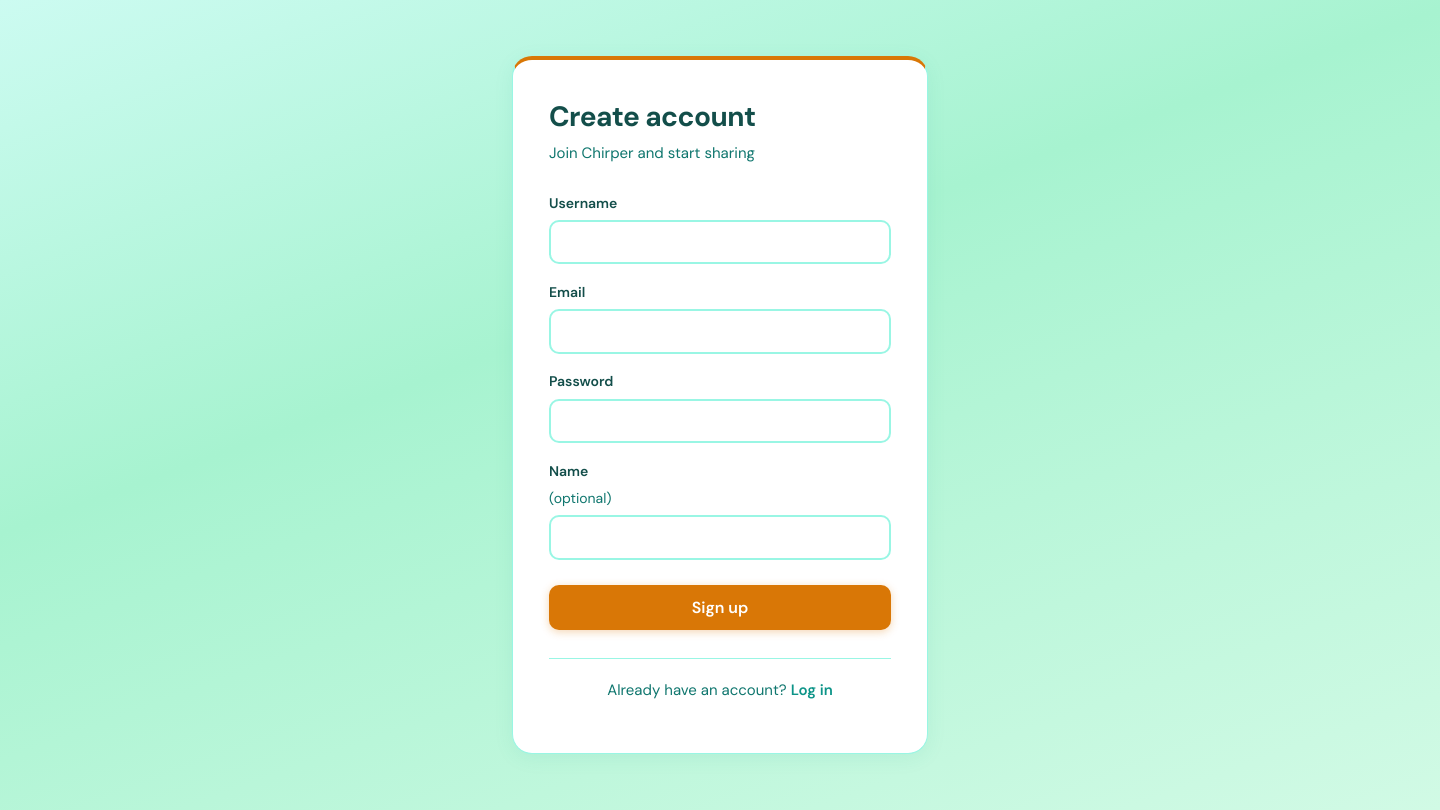
Test: Signup › shows error on 409
The width and height of the screenshot is (1440, 810).
In the field labelled "Username": [720, 242] box [549,220,891,264], type "alice"
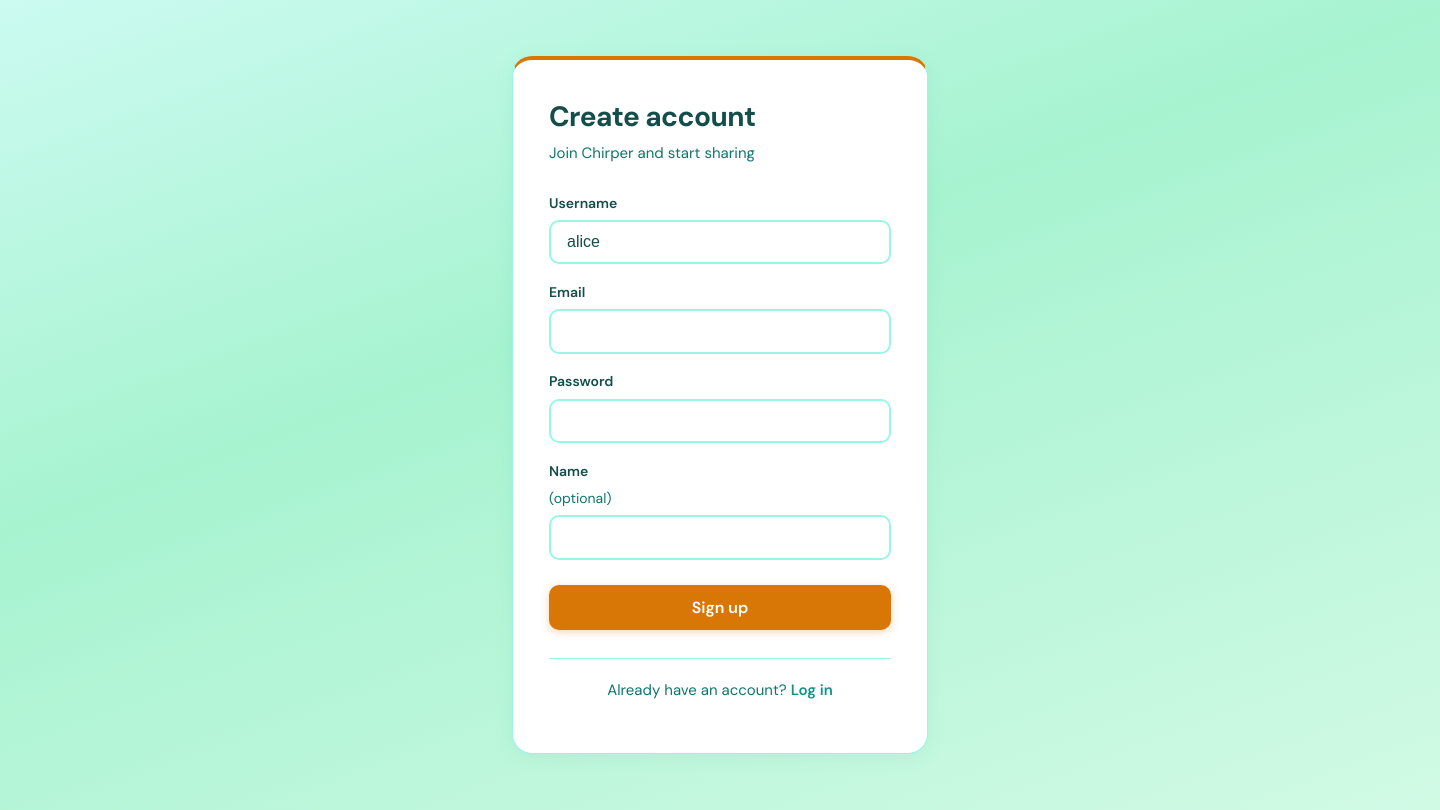
In the field labelled "Email": [720, 332] box [549,309,891,354], type "alice@example.com"
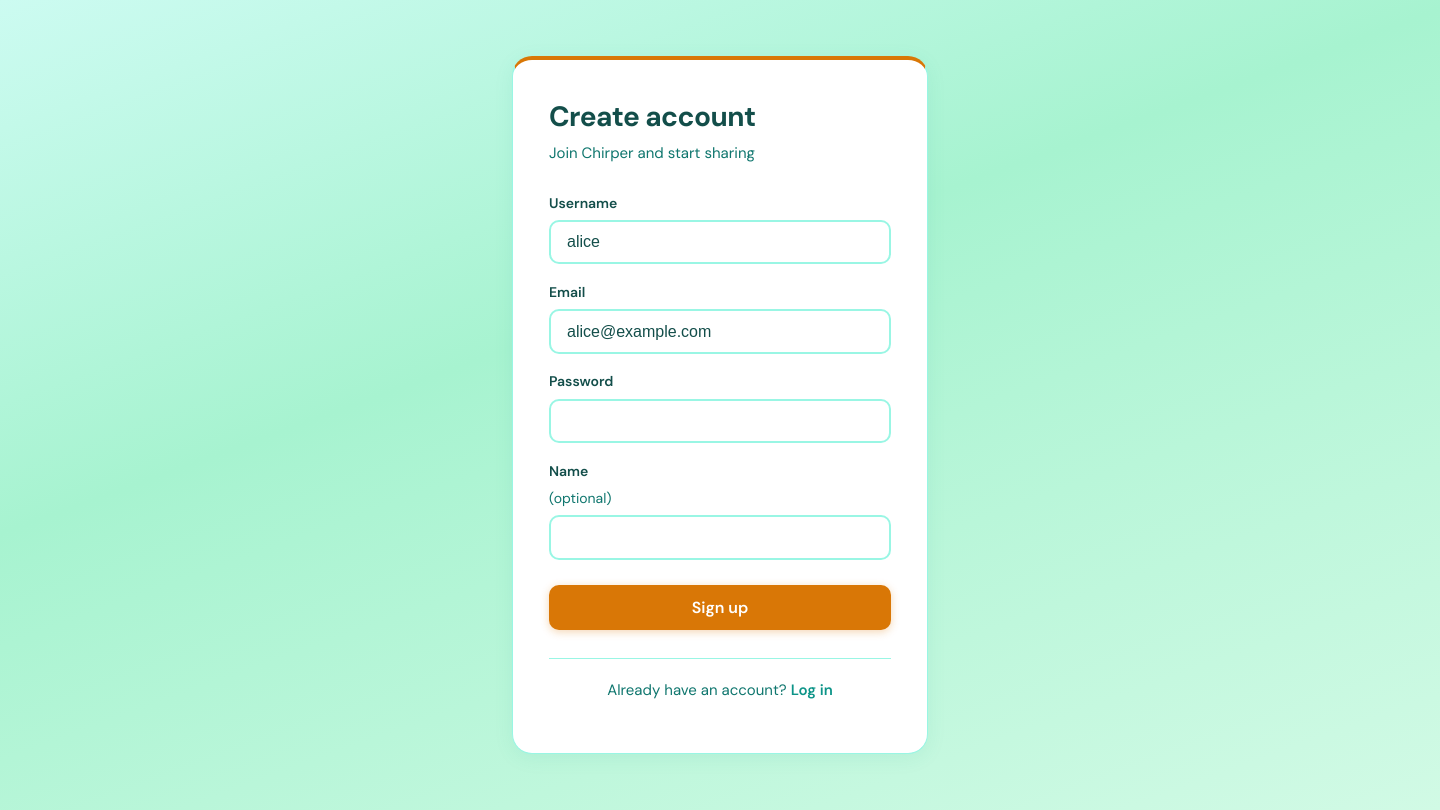
In the password field labelled "Password": [720, 421] box [549,399,891,443], type "pass1234"
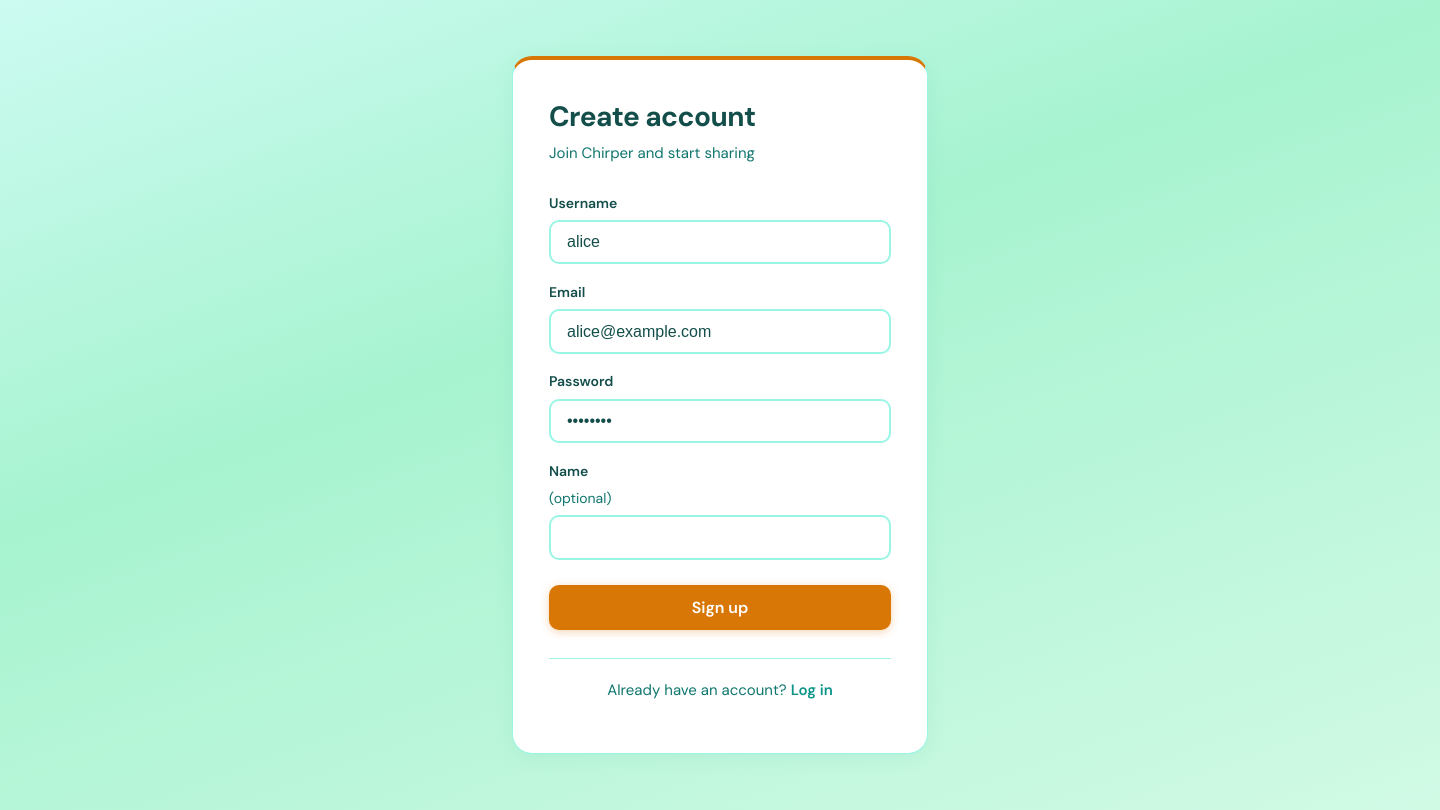
Click the button "Sign up": [720, 608] box [549,585,891,630]
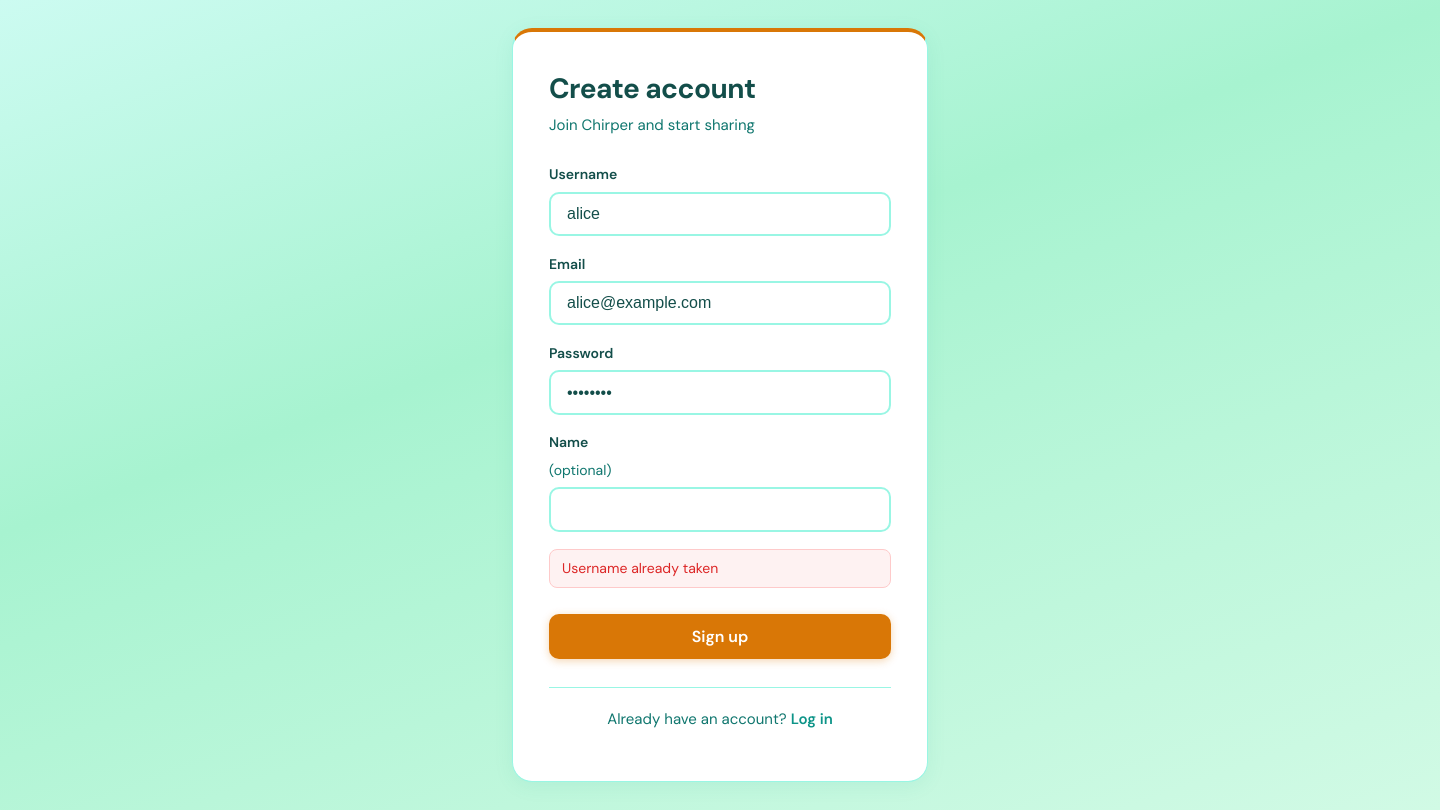
expect the message reads "Username already taken": met, box [562,559,718,577]
